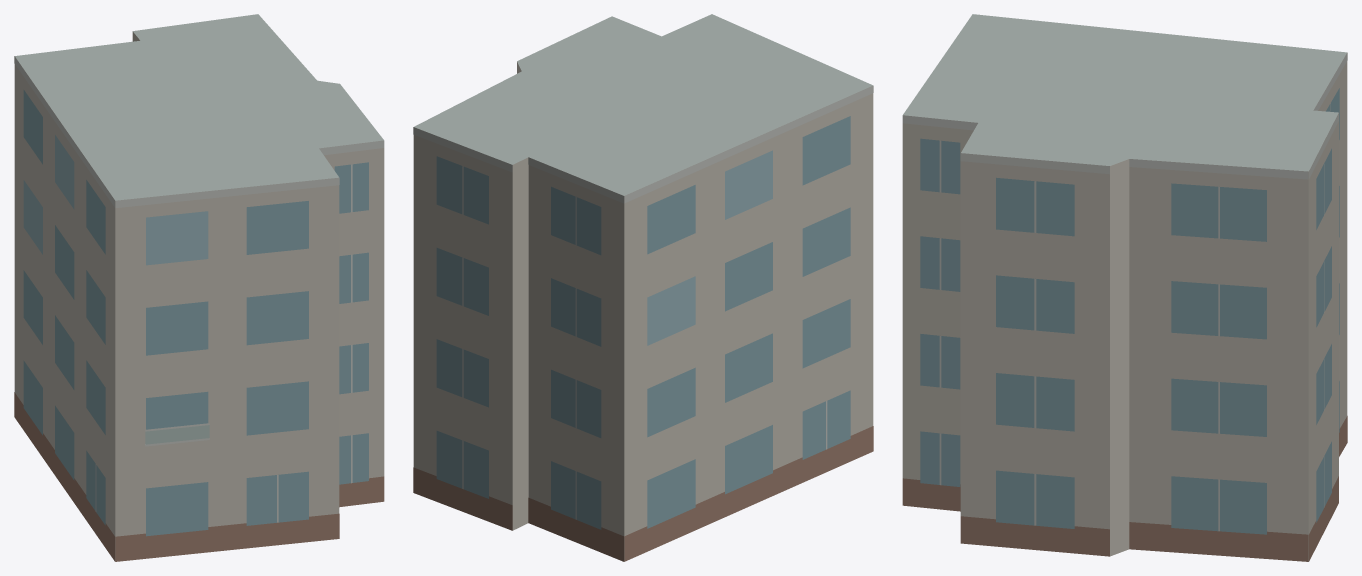
The model's file is survey-upis-32724424.glb.
3 renders of one model, left to right at view 1: azimuth 30°, elevation 25°; view 2: azimuth 150°, elevation 25°; view 3: azimuth 270°, elevation 25°, orthographic. The views are drawn at different scales.
Parts seen in each view (by area): view 1: survey-upis-32724424.tmp; view 2: survey-upis-32724424.tmp; view 3: survey-upis-32724424.tmp.
Boxes of the visible parts, x1,y1,x2,y2 form: survey-upis-32724424.tmp: [14, 14, 384, 561]; survey-upis-32724424.tmp: [413, 14, 873, 561]; survey-upis-32724424.tmp: [902, 14, 1347, 561].
Bounding box in the file's own units: 10.17 × 11.75 × 12.14.
